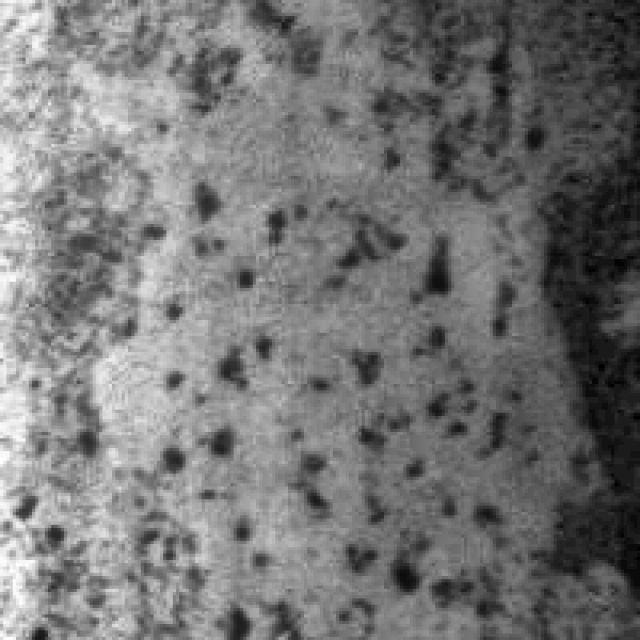Rolled_in_Scale: (92, 12, 506, 612)
